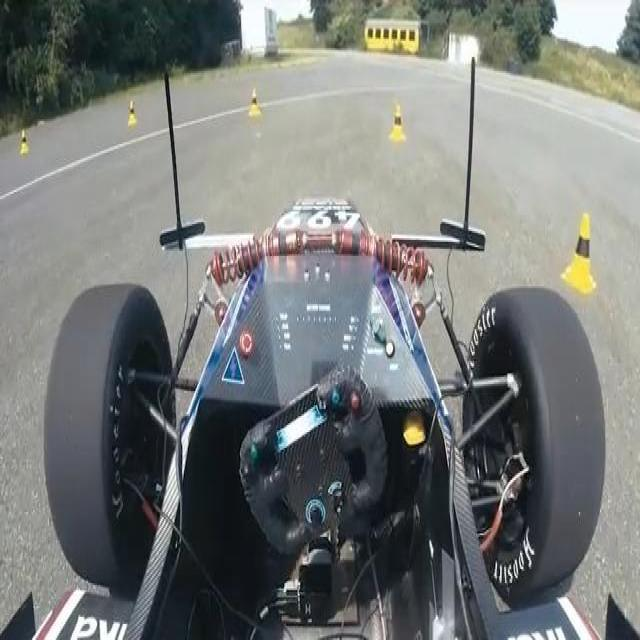yellow_cone: (561, 211, 598, 294), (389, 103, 407, 142), (248, 87, 262, 117), (20, 130, 29, 156), (128, 100, 137, 126)
